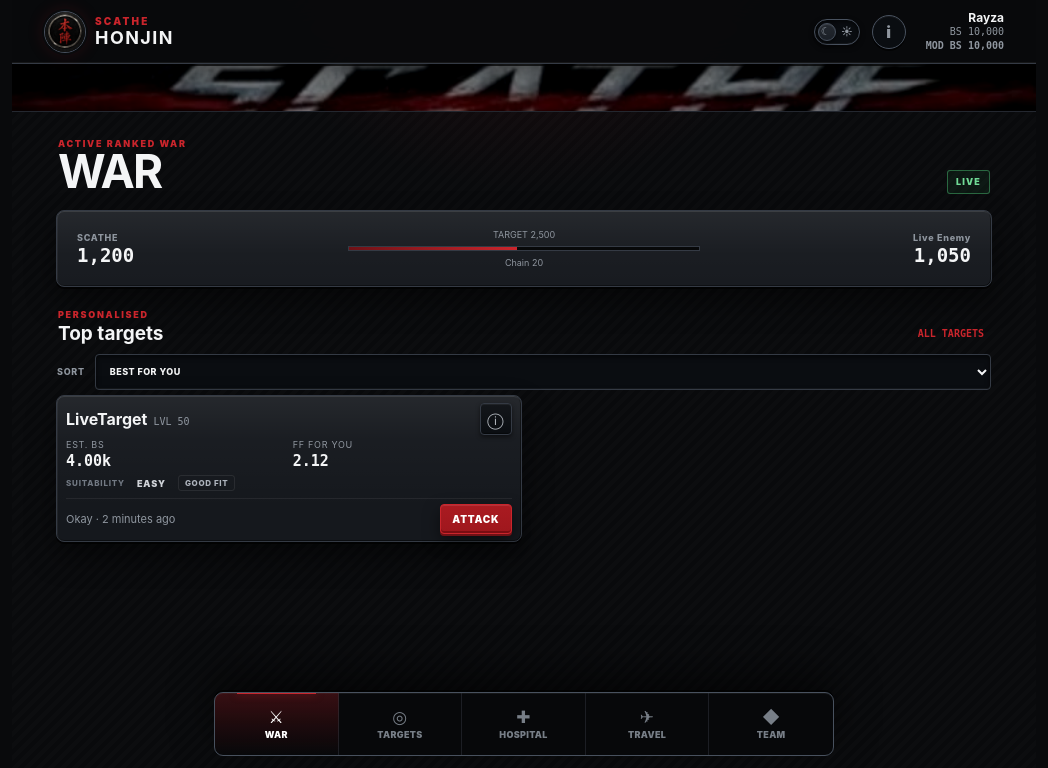
Test: live HONJIN shell › hydrates the saved Team snapshot before a live Team refresh succeeds
Expected: the text "Live Enemy" is shown, [913,232,971,243]
Click the button "◆ TEAM" at (771, 724), box [709,693,833,755]
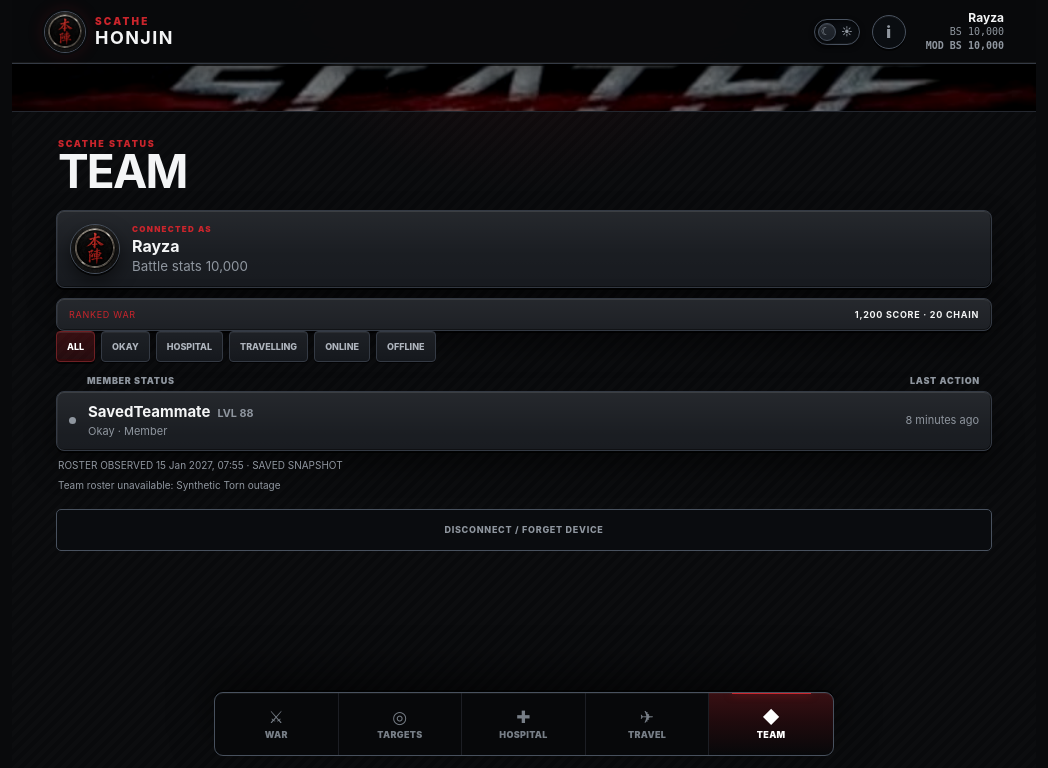
Now the text "SavedTeammate" is shown, box [88,402,210,421]
Now the text "ROSTER OBSERVED 15 Jan 2027, 07:55 · SAVED SNAPSHOT" is shown, box [58,458,343,470]
Now the text "Team roster unavailable: Synthetic Torn outage" is shown, box [58,478,280,490]
